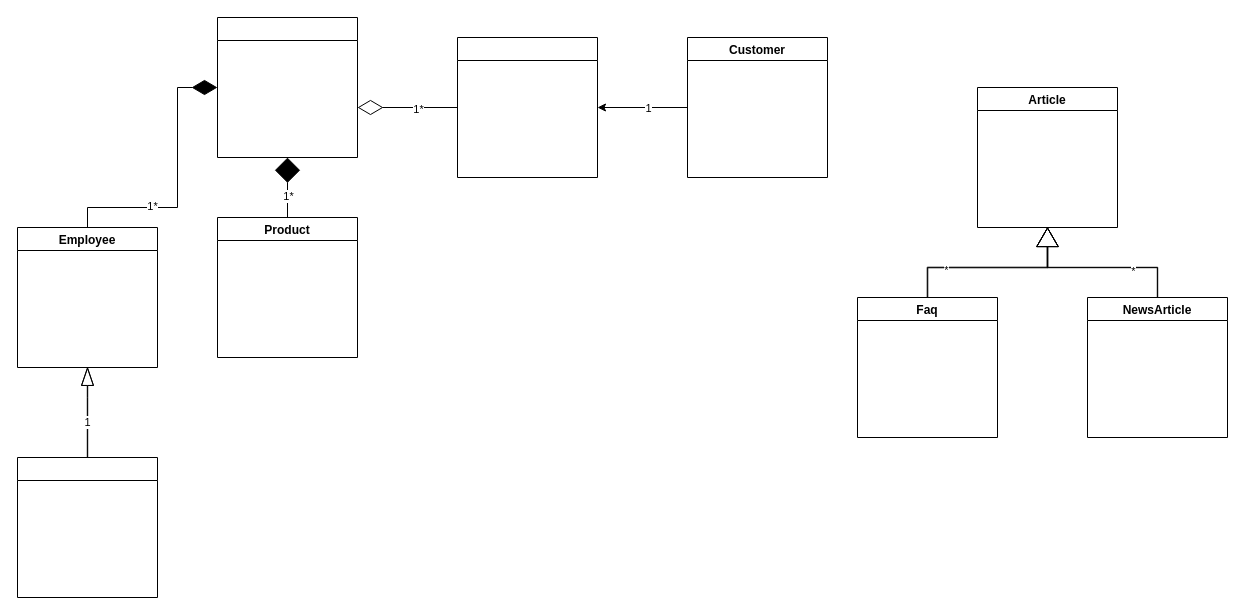
Some shapes in this 1245 by 615 pixel diagram are drawn without their labels. Each missing label, with the box of its shape:
Shop: (216, 16, 358, 158)
ShopingCart: (456, 36, 598, 178)
ShopManager: (16, 456, 158, 598)
